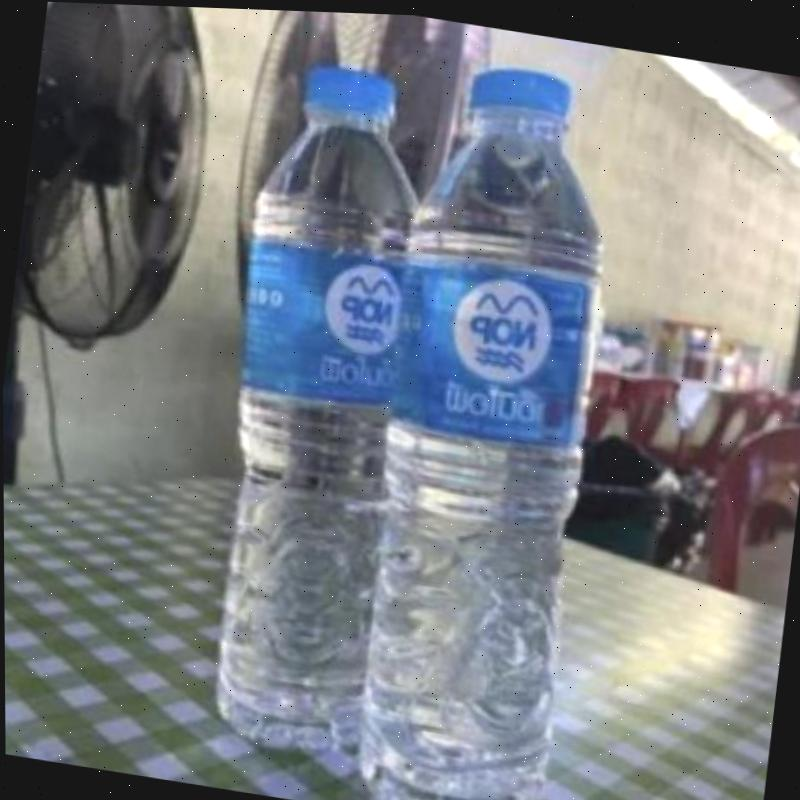botella: (373, 49, 630, 533), (219, 50, 436, 497)
